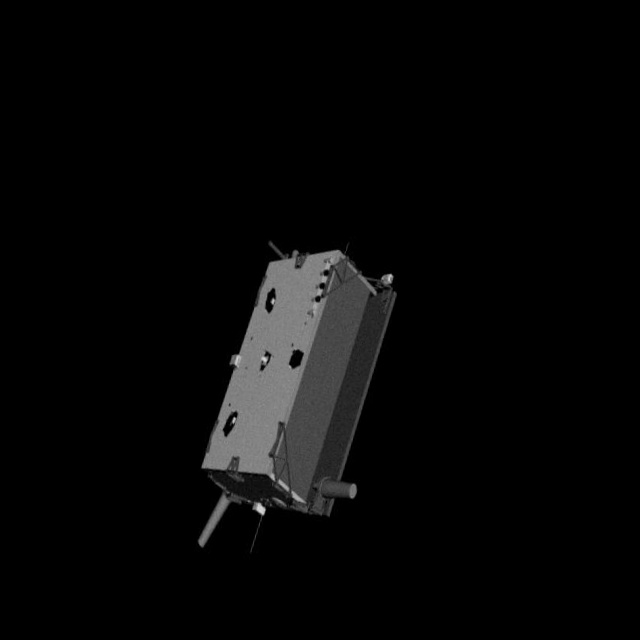satellite: (159, 223, 402, 574)
